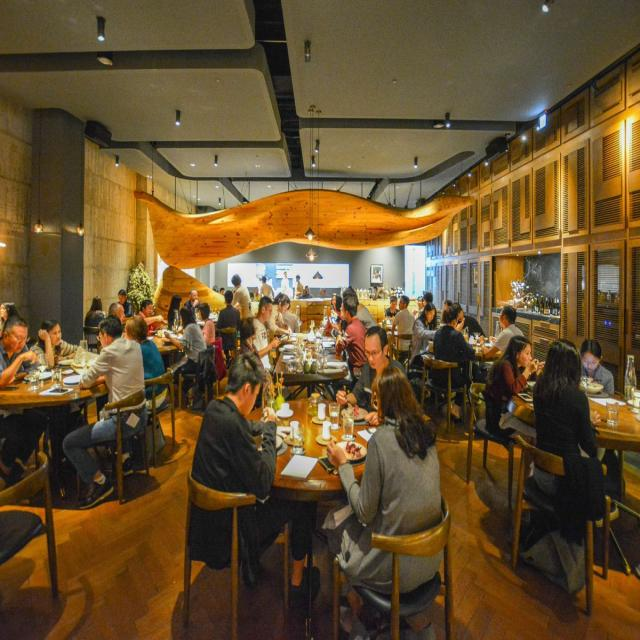person: (343, 363, 446, 624), (192, 365, 292, 579), (67, 314, 158, 503), (536, 346, 608, 526), (472, 341, 548, 416), (123, 305, 175, 408), (339, 326, 414, 390), (430, 306, 478, 404), (3, 312, 45, 397), (166, 294, 212, 371), (251, 290, 291, 372), (331, 299, 371, 374), (571, 319, 609, 395), (390, 288, 444, 340), (32, 319, 78, 371), (492, 298, 531, 357), (219, 283, 245, 350), (231, 252, 255, 322), (79, 296, 104, 354)
